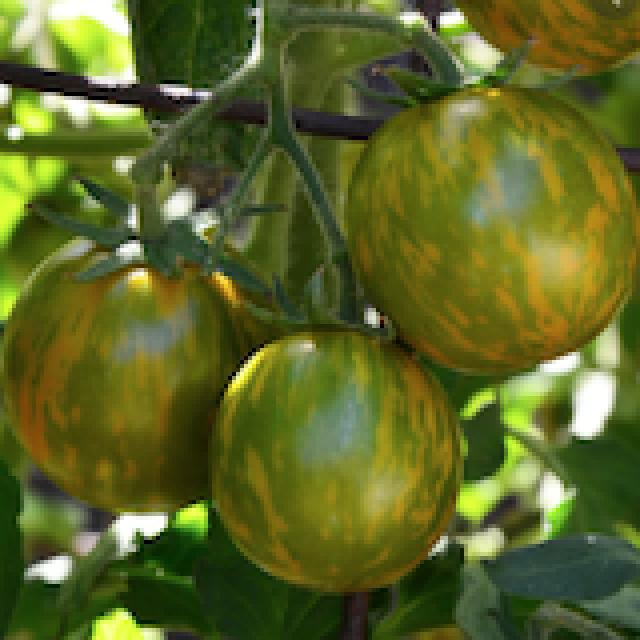yesil: (0, 2, 622, 596)
